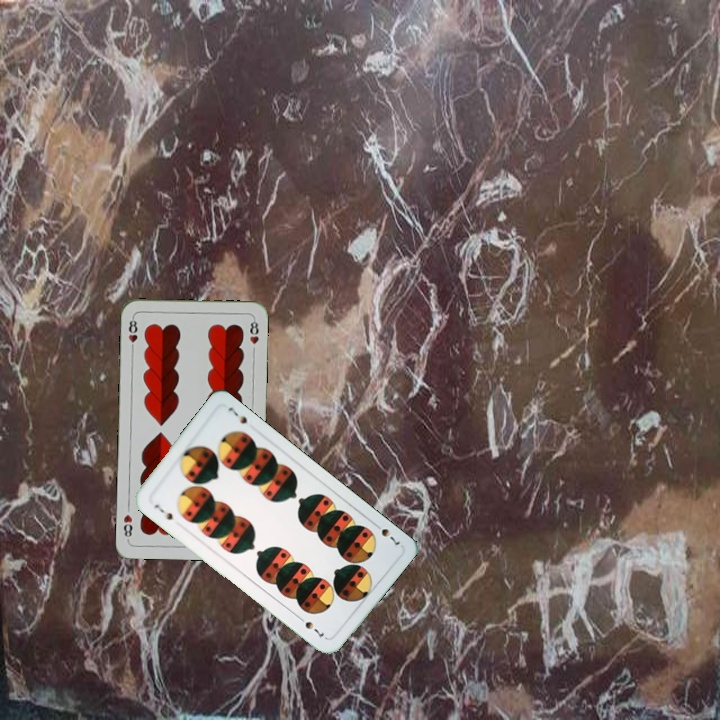H8: (125, 313, 140, 354)
S7: (369, 518, 403, 548), (150, 500, 175, 523)
